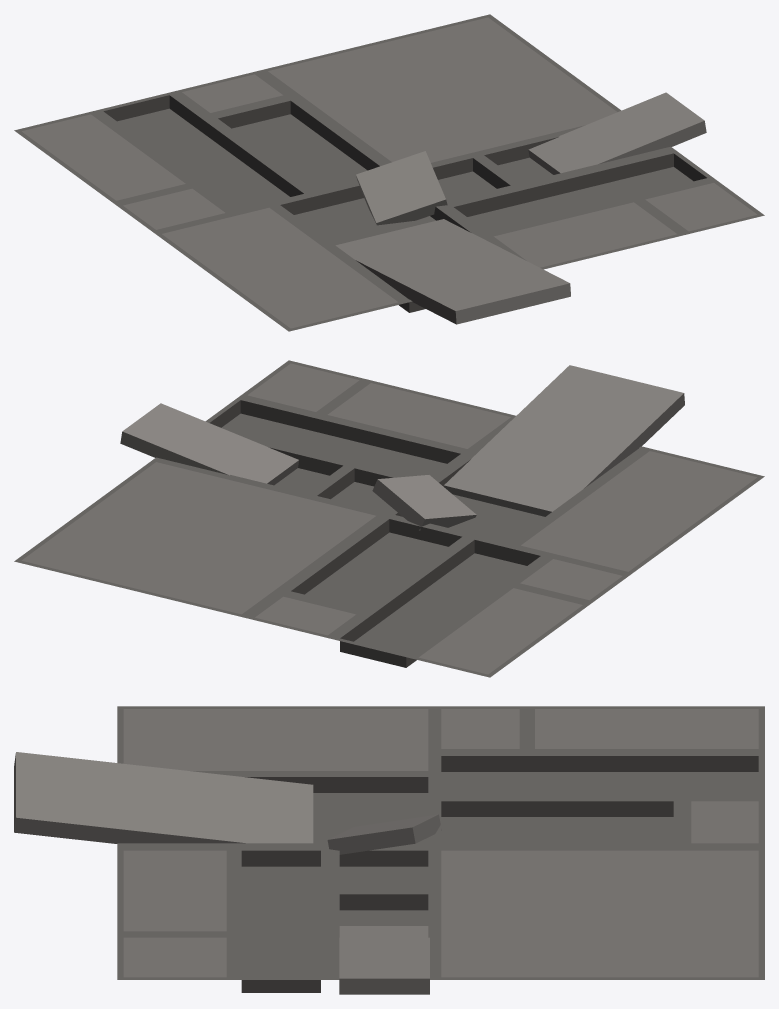
Rendered from SD_Env_Floor_Stone_Broken_05.fbx.
3 renders of one model, top to bottom at view 1: azimuth 30°, elevation 25°; view 2: azimuth 150°, elevation 25°; view 3: azimuth 270°, elevation 25°, orthographic. The views are drawn at different scales.
Parts seen in each view (by area): view 1: SD_Env_Floor_Stone_Broken_05; view 2: SD_Env_Floor_Stone_Broken_05; view 3: SD_Env_Floor_Stone_Broken_05.
Part boxes in pixels (x1,y1,x2,y2): SD_Env_Floor_Stone_Broken_05: (14,14,764,331); SD_Env_Floor_Stone_Broken_05: (14,360,764,677); SD_Env_Floor_Stone_Broken_05: (14,706,764,994).
Size of the model in its own units: 5.38 by 0.4793 by 5.8.
